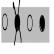correct: (38, 12, 46, 34)
not correct: (12, 0, 23, 45)
